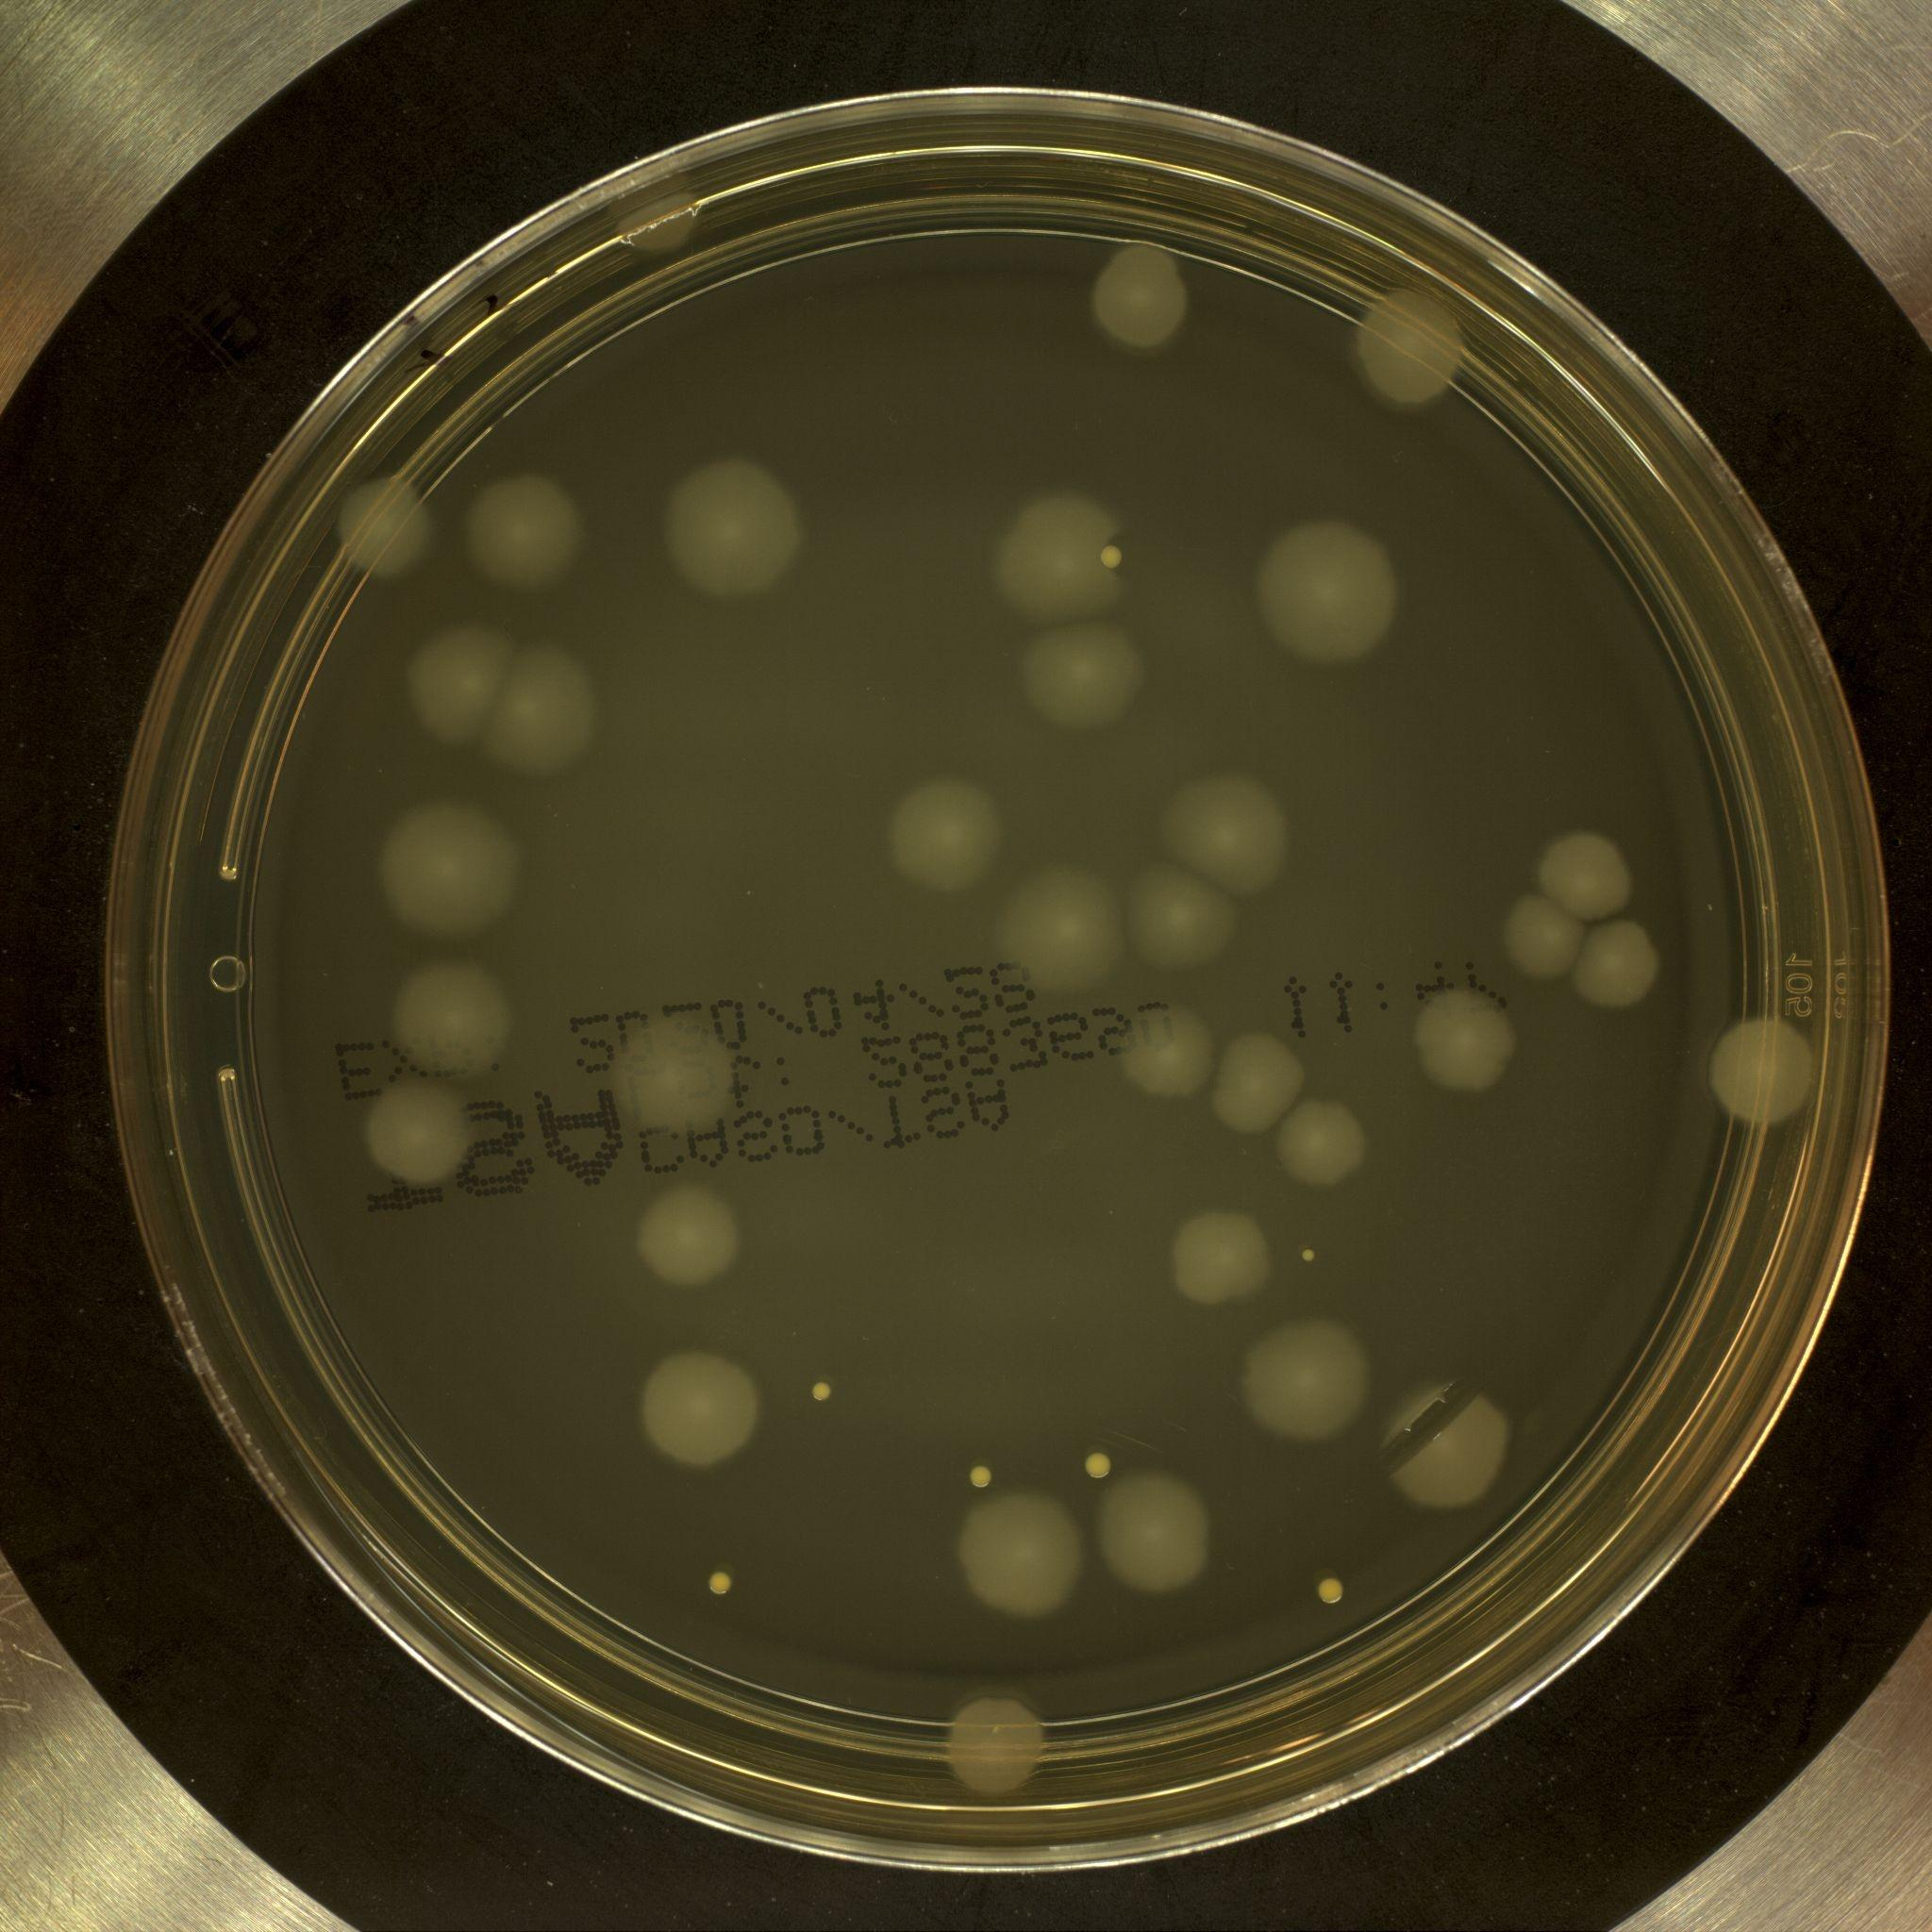e. coli: (662, 460, 800, 600), (1263, 524, 1394, 665), (382, 809, 522, 939), (996, 494, 1127, 630), (1168, 773, 1299, 901), (1244, 1327, 1375, 1447), (955, 1490, 1077, 1615), (1392, 1380, 1513, 1502), (612, 1026, 741, 1139), (1005, 870, 1123, 991), (1026, 616, 1145, 734), (488, 642, 602, 766), (640, 1353, 757, 1468), (467, 474, 577, 594), (393, 964, 510, 1074), (1104, 1476, 1210, 1596), (1362, 283, 1465, 405), (364, 1085, 474, 1189), (1127, 863, 1235, 968), (637, 1189, 747, 1288), (1093, 242, 1189, 352), (1414, 991, 1516, 1092), (897, 786, 998, 886), (1212, 1028, 1309, 1132), (1716, 1017, 1808, 1123), (343, 483, 439, 582), (414, 623, 495, 738), (1171, 1210, 1261, 1304), (941, 1702, 1040, 1787), (1276, 1102, 1371, 1187), (1123, 1010, 1210, 1097), (1504, 892, 1585, 978), (1576, 925, 1661, 1005), (612, 170, 697, 249)
